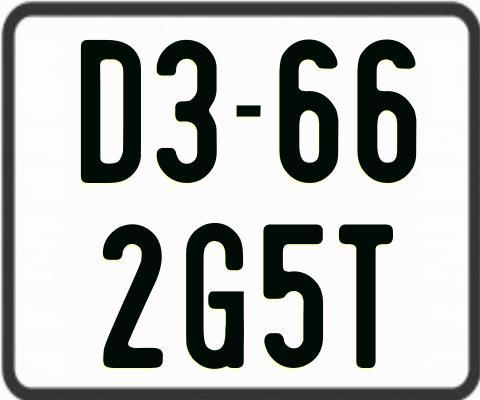2: (102, 221, 162, 371)
3: (157, 37, 221, 183)
5: (261, 224, 325, 372)
6: (276, 37, 341, 184), (356, 37, 419, 184)
D: (79, 37, 145, 182)
G: (185, 220, 245, 369)
T: (336, 223, 394, 371)
